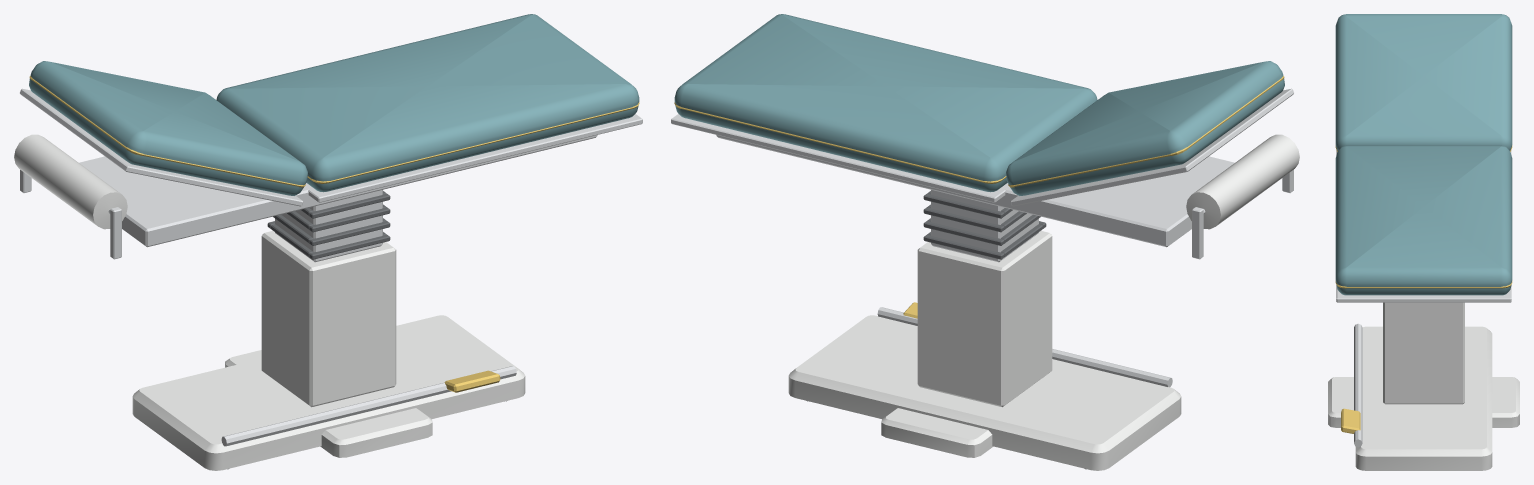
The model's file is clinic-and-veterinary-practice-examination-couch-adjus-ac07fdf2.glb.
3 renders of one model, left to right at view 1: azimuth 30°, elevation 25°; view 2: azimuth 150°, elevation 25°; view 3: azimuth 270°, elevation 25°, orthographic. The views are drawn at different scales.
Visible parts, largest first — view 1: examination-couch-adjustable; view 2: examination-couch-adjustable; view 3: examination-couch-adjustable.
Part boxes in pixels (x1=…): examination-couch-adjustable: x1=14, y1=14, x2=642, y2=470; examination-couch-adjustable: x1=671, y1=14, x2=1299, y2=470; examination-couch-adjustable: x1=1328, y1=14, x2=1519, y2=470.
Bounding box in the file's own units: 1.85 × 1.21 × 0.6999.
